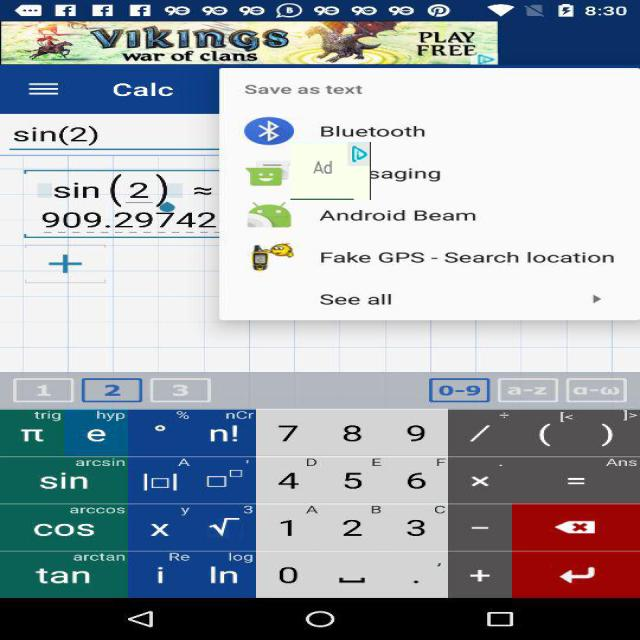sneaking: (290, 142, 371, 200)
